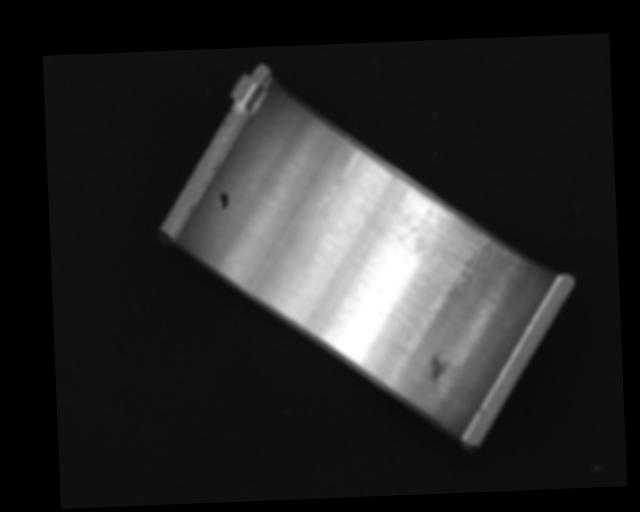blot: (219, 191, 230, 210)
bruise: (428, 350, 448, 381)
nick: (315, 149, 365, 223)
scratch: (378, 189, 521, 295)
